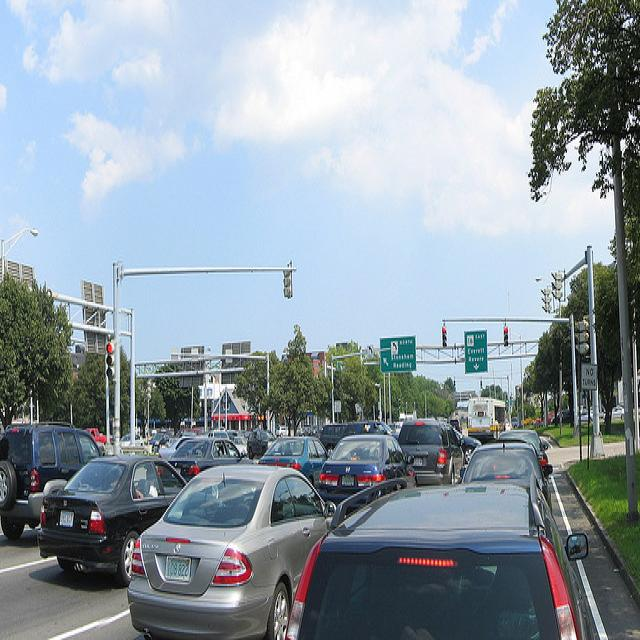Vehicle: (286, 473, 589, 637), (127, 460, 337, 640), (37, 455, 189, 589), (0, 426, 103, 539), (316, 433, 404, 503), (397, 418, 466, 484), (460, 441, 546, 488), (256, 431, 329, 484), (167, 440, 258, 480), (467, 398, 506, 444), (468, 398, 506, 440), (342, 422, 399, 440), (247, 429, 274, 459), (226, 430, 248, 454), (86, 427, 108, 444), (120, 436, 130, 445)
